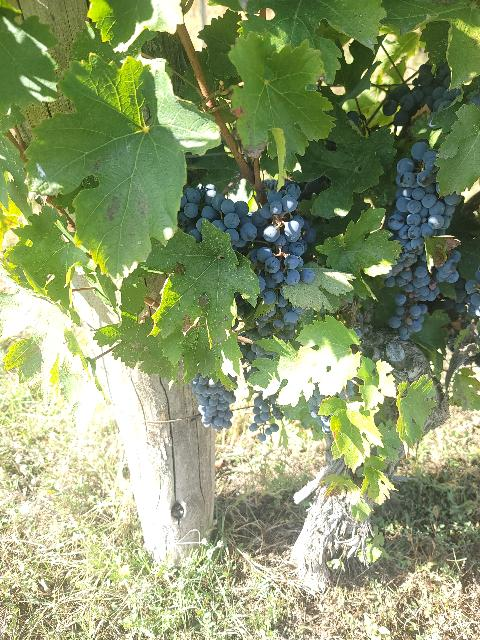grapes: (240, 181, 316, 339), (388, 141, 461, 240), (385, 250, 460, 340), (178, 184, 258, 249), (190, 375, 235, 431)
